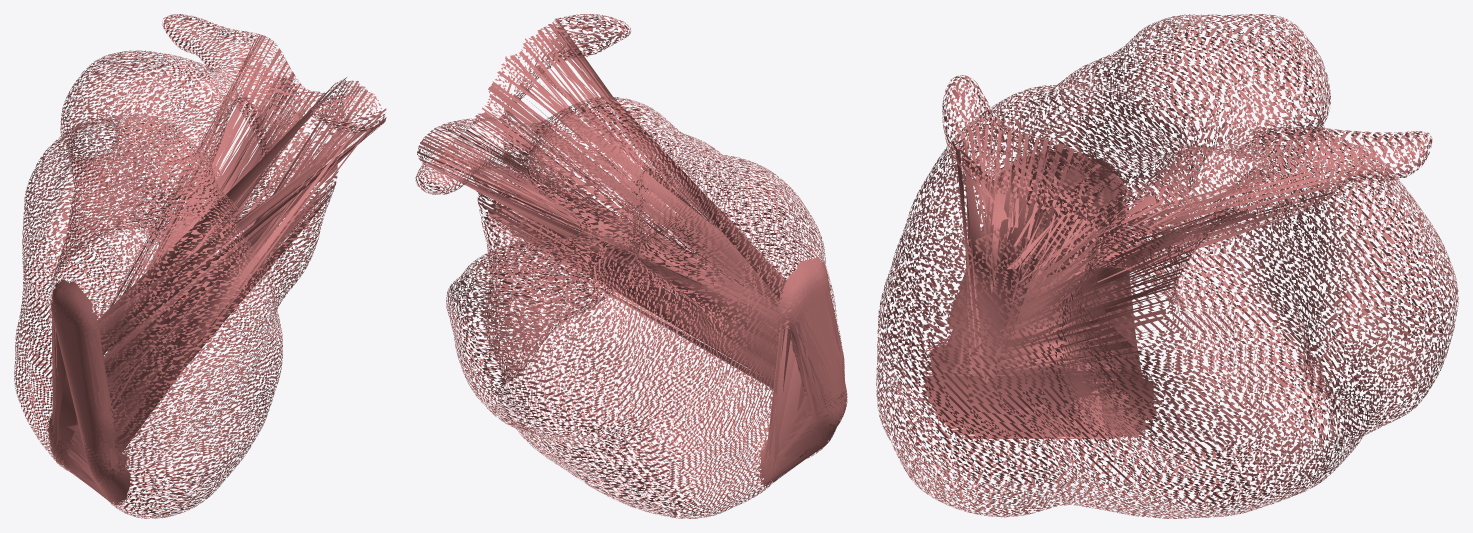
File: heart.glb
The picture shows the model from 3 angles, left to right: view 1: azimuth 30°, elevation 25°; view 2: azimuth 150°, elevation 25°; view 3: azimuth 270°, elevation 25°; orthographic projection. The views are drawn at different scales.
Size of the model in its own units: 105 by 130 by 128.
